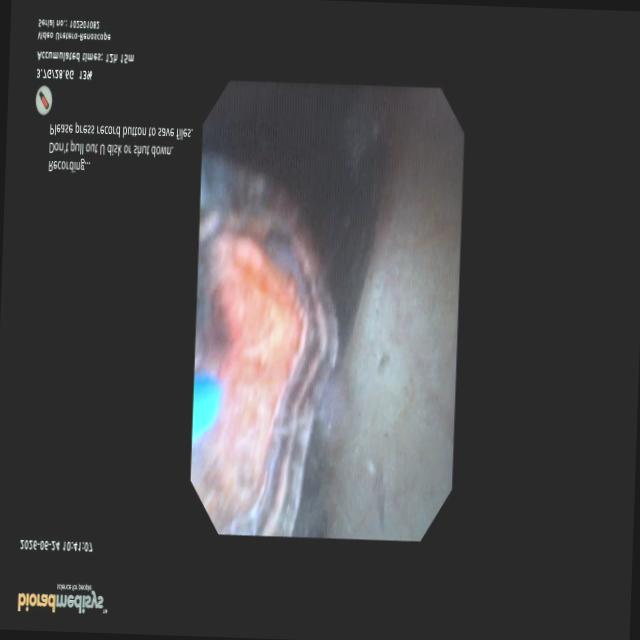stone-new: (190, 155, 338, 536)
